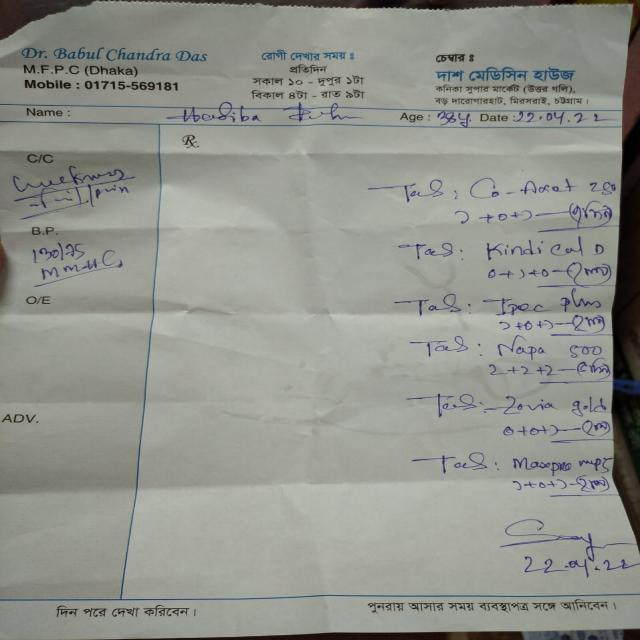Co-Axet: (465, 173, 578, 203)
Ipec Plus: (476, 292, 607, 319)
Kindical D: (479, 236, 609, 263)
Maxpro Mups: (505, 453, 613, 477)
Napa: (490, 338, 554, 363)
Zovia Gold: (490, 388, 612, 423)
